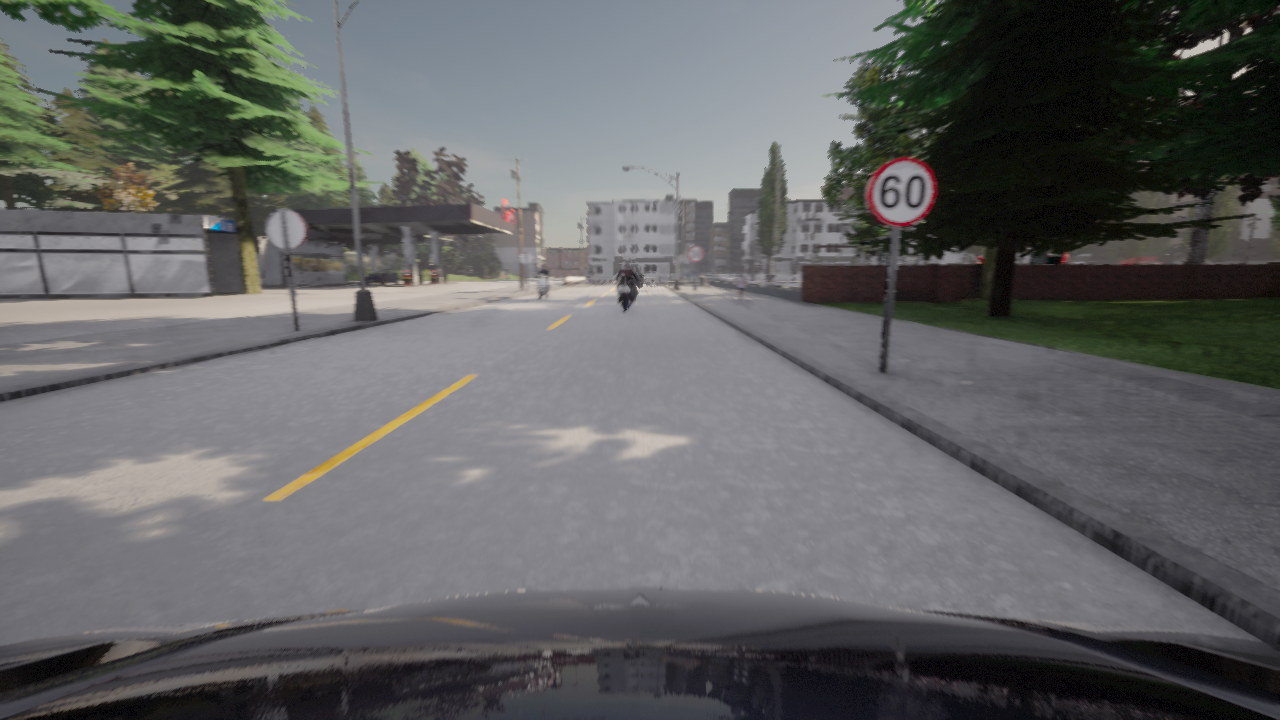cyclist: (0, 588, 1279, 719), (615, 273, 640, 312), (365, 269, 399, 284), (533, 272, 551, 299), (584, 272, 595, 285), (683, 270, 702, 275), (637, 276, 643, 287), (701, 272, 717, 275)
pedestrian: (736, 274, 745, 300)
